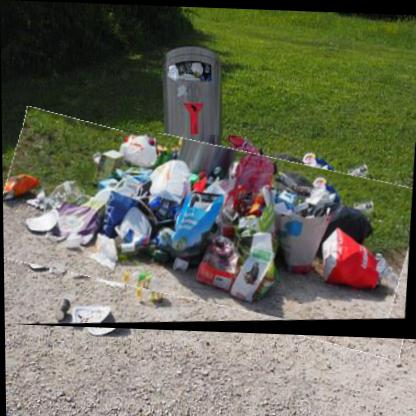Garbage: (2, 128, 416, 339)
